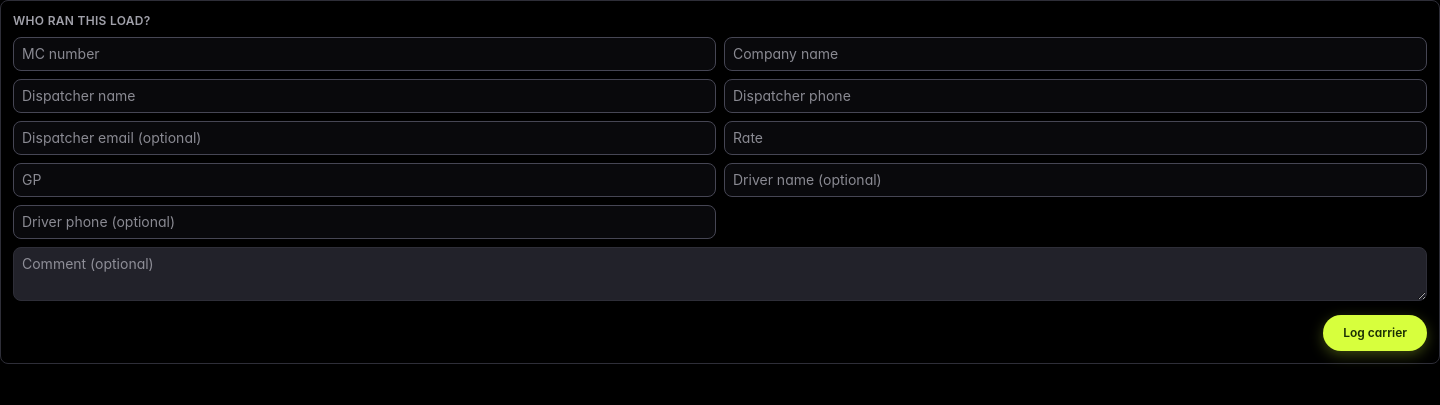
Scenario: BookingCarrierFields › tabbing out of a known MC number autofills the rest of the form
The width and height of the screenshot is (1440, 405).
Step 1. Type "123456" into the field named "carrier mc number" → point(364, 54), box [13,37,716,71]
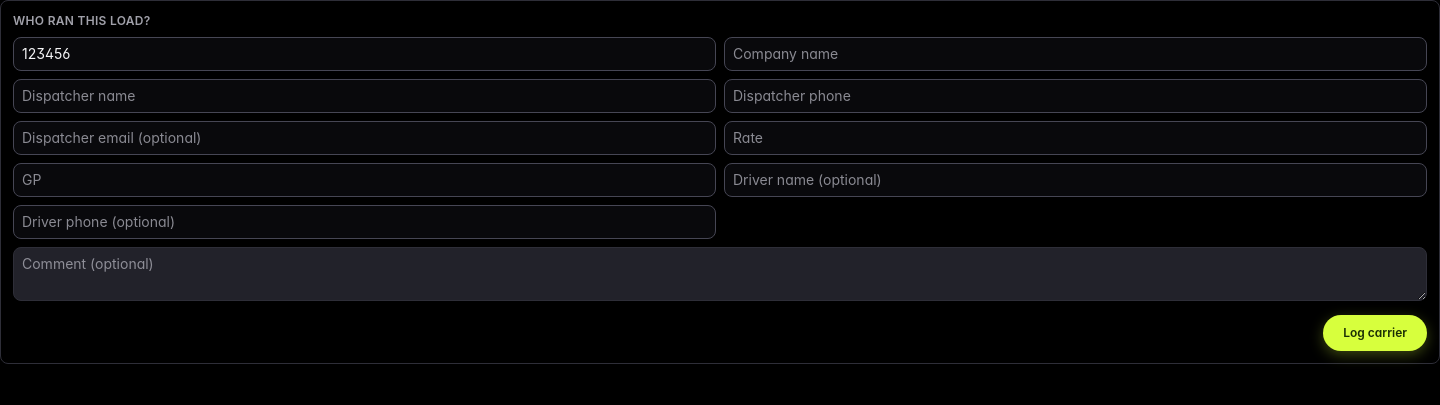
Step 2. Leave the field named "carrier mc number", box [13,37,716,71]
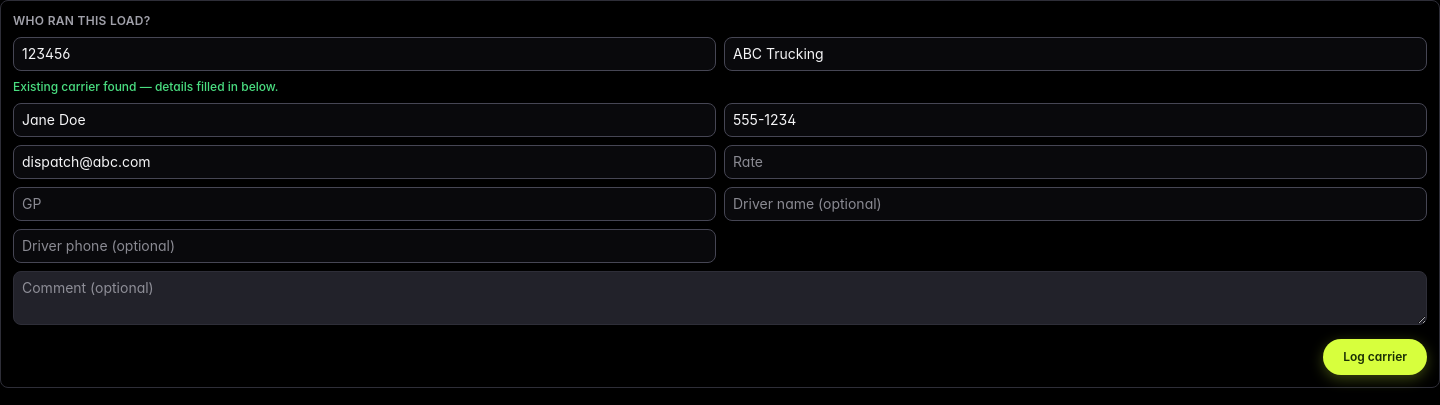
Check: the field named "carrier company name" holds "ABC Trucking", box [724,37,1427,71]
Check: the field named "Dispatcher name" holds "Jane Doe", box [13,103,716,137]
Check: the field named "Dispatcher phone" holds "555-1234", box [724,103,1427,137]
